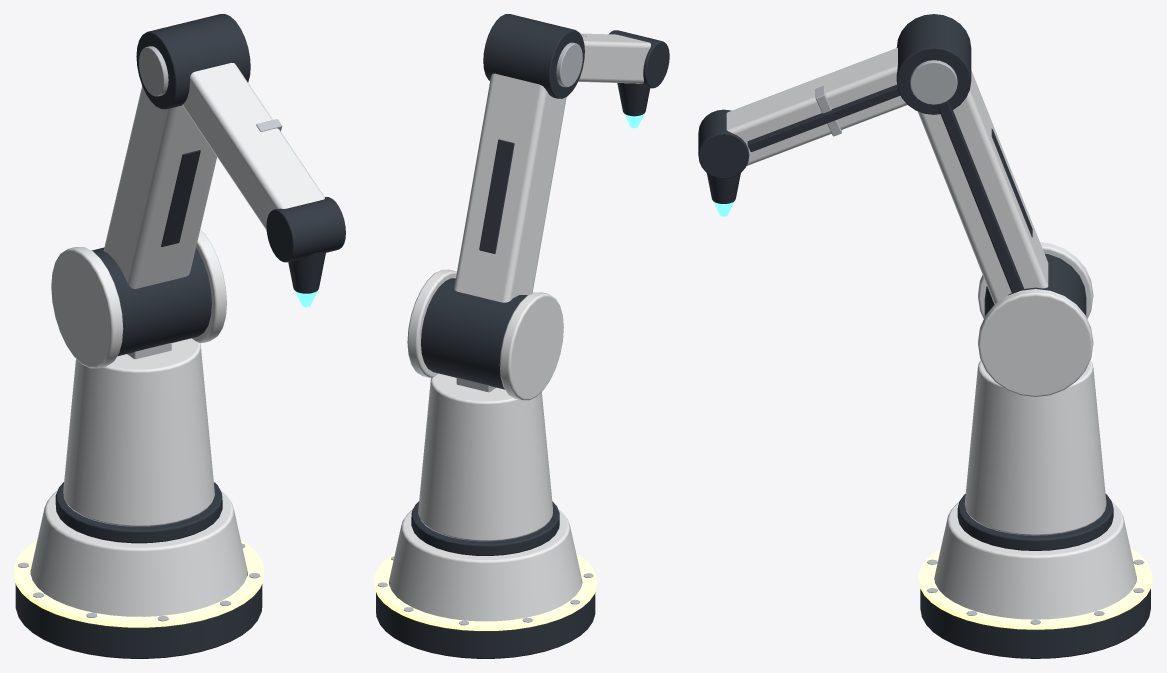
File: RobotArm.fbx
The picture shows the model from 3 angles, left to right: view 1: azimuth 30°, elevation 25°; view 2: azimuth 150°, elevation 25°; view 3: azimuth 270°, elevation 25°; orthographic projection. The views are drawn at different scales.
Parts seen in each view (by area): view 1: ARM_Base, ARM_Upper, ARM_Fore; view 2: ARM_Base, ARM_Upper, ARM_Fore; view 3: ARM_Base, ARM_Upper, ARM_Fore.
Part boxes in pixels (x1=…): ARM_Base: x1=14, y1=230, x2=264, y2=658; ARM_Upper: x1=103, y1=14, x2=250, y2=288; ARM_Fore: x1=182, y1=63, x2=345, y2=307; ARM_Base: x1=374, y1=269, x2=596, y2=658; ARM_Upper: x1=454, y1=14, x2=584, y2=302; ARM_Fore: x1=578, y1=30, x2=669, y2=128; ARM_Base: x1=918, y1=242, x2=1152, y2=658; ARM_Upper: x1=896, y1=14, x2=1048, y2=304; ARM_Fore: x1=698, y1=48, x2=907, y2=216.
Size of the model in its own units: 0.69 by 1.89 by 1.34.
